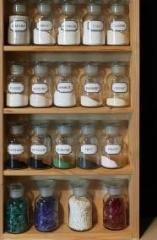glass: (5, 176, 129, 234), (4, 116, 130, 170), (5, 62, 131, 108), (7, 3, 129, 47)
